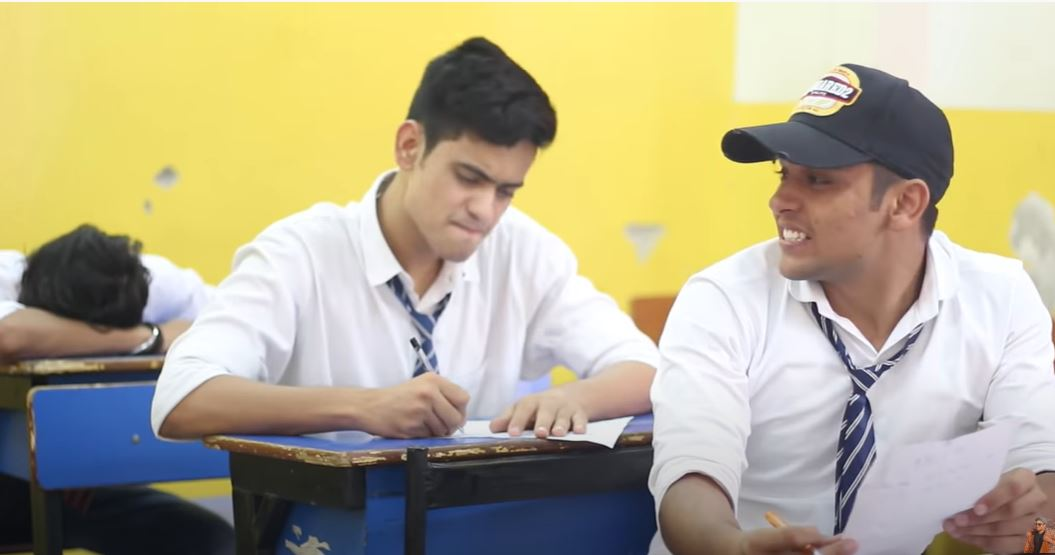student: (290, 66, 633, 440)
studentcopying: (664, 88, 1051, 555)
studentsleep: (1, 194, 272, 362)
